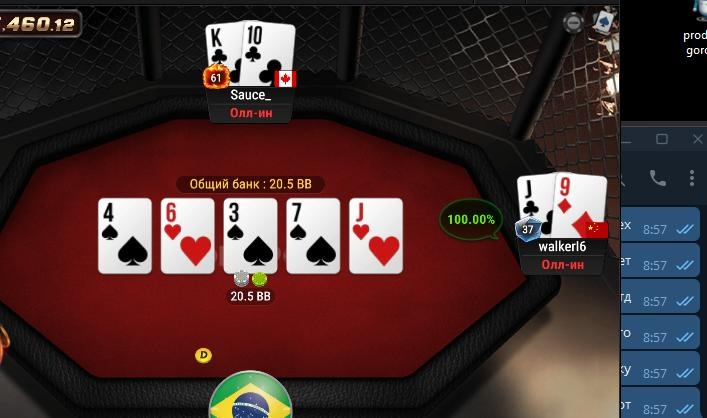10c: (242, 20, 296, 86)
3s: (224, 199, 277, 272)
4s: (98, 199, 151, 273)
6h: (161, 198, 214, 272)
7s: (286, 199, 342, 273)
9d: (554, 172, 606, 237)
Jc: (515, 174, 554, 238)
Jh: (349, 199, 403, 273)
Kc: (204, 23, 242, 84)
